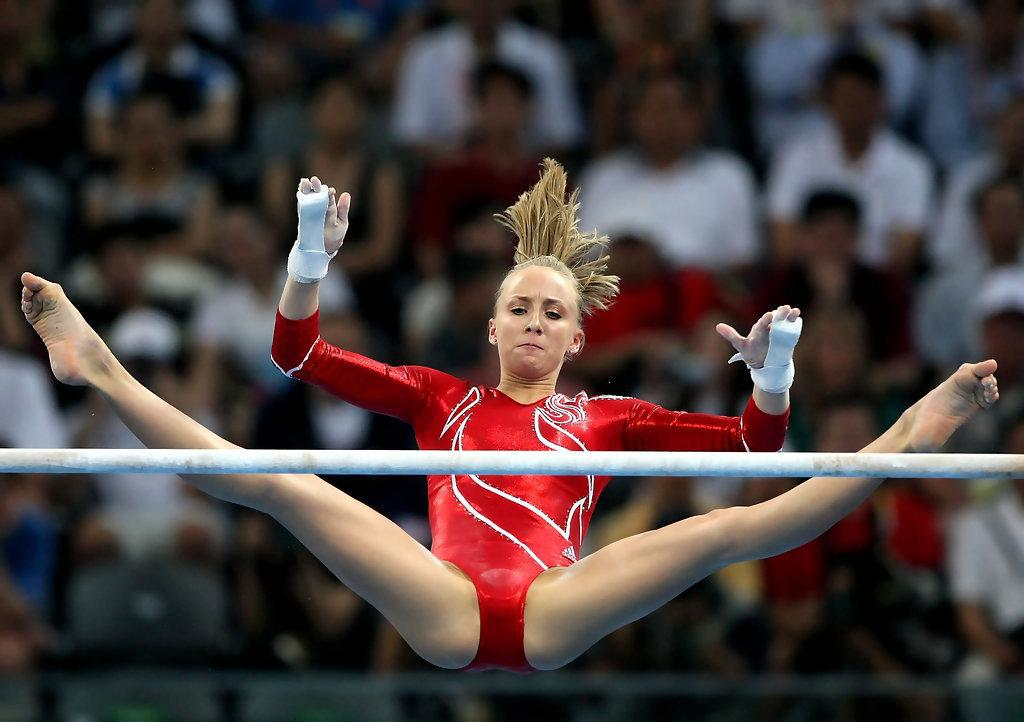face: (499, 271, 569, 375)
